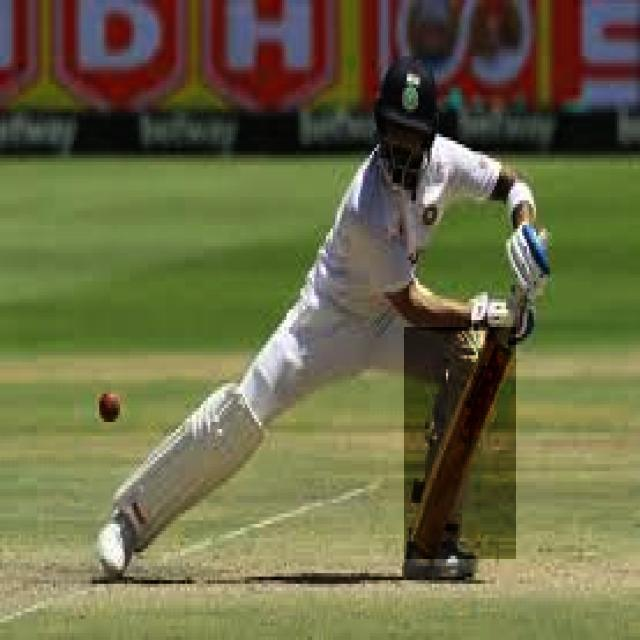bat: (405, 326, 520, 557)
toe: (400, 534, 456, 556)
